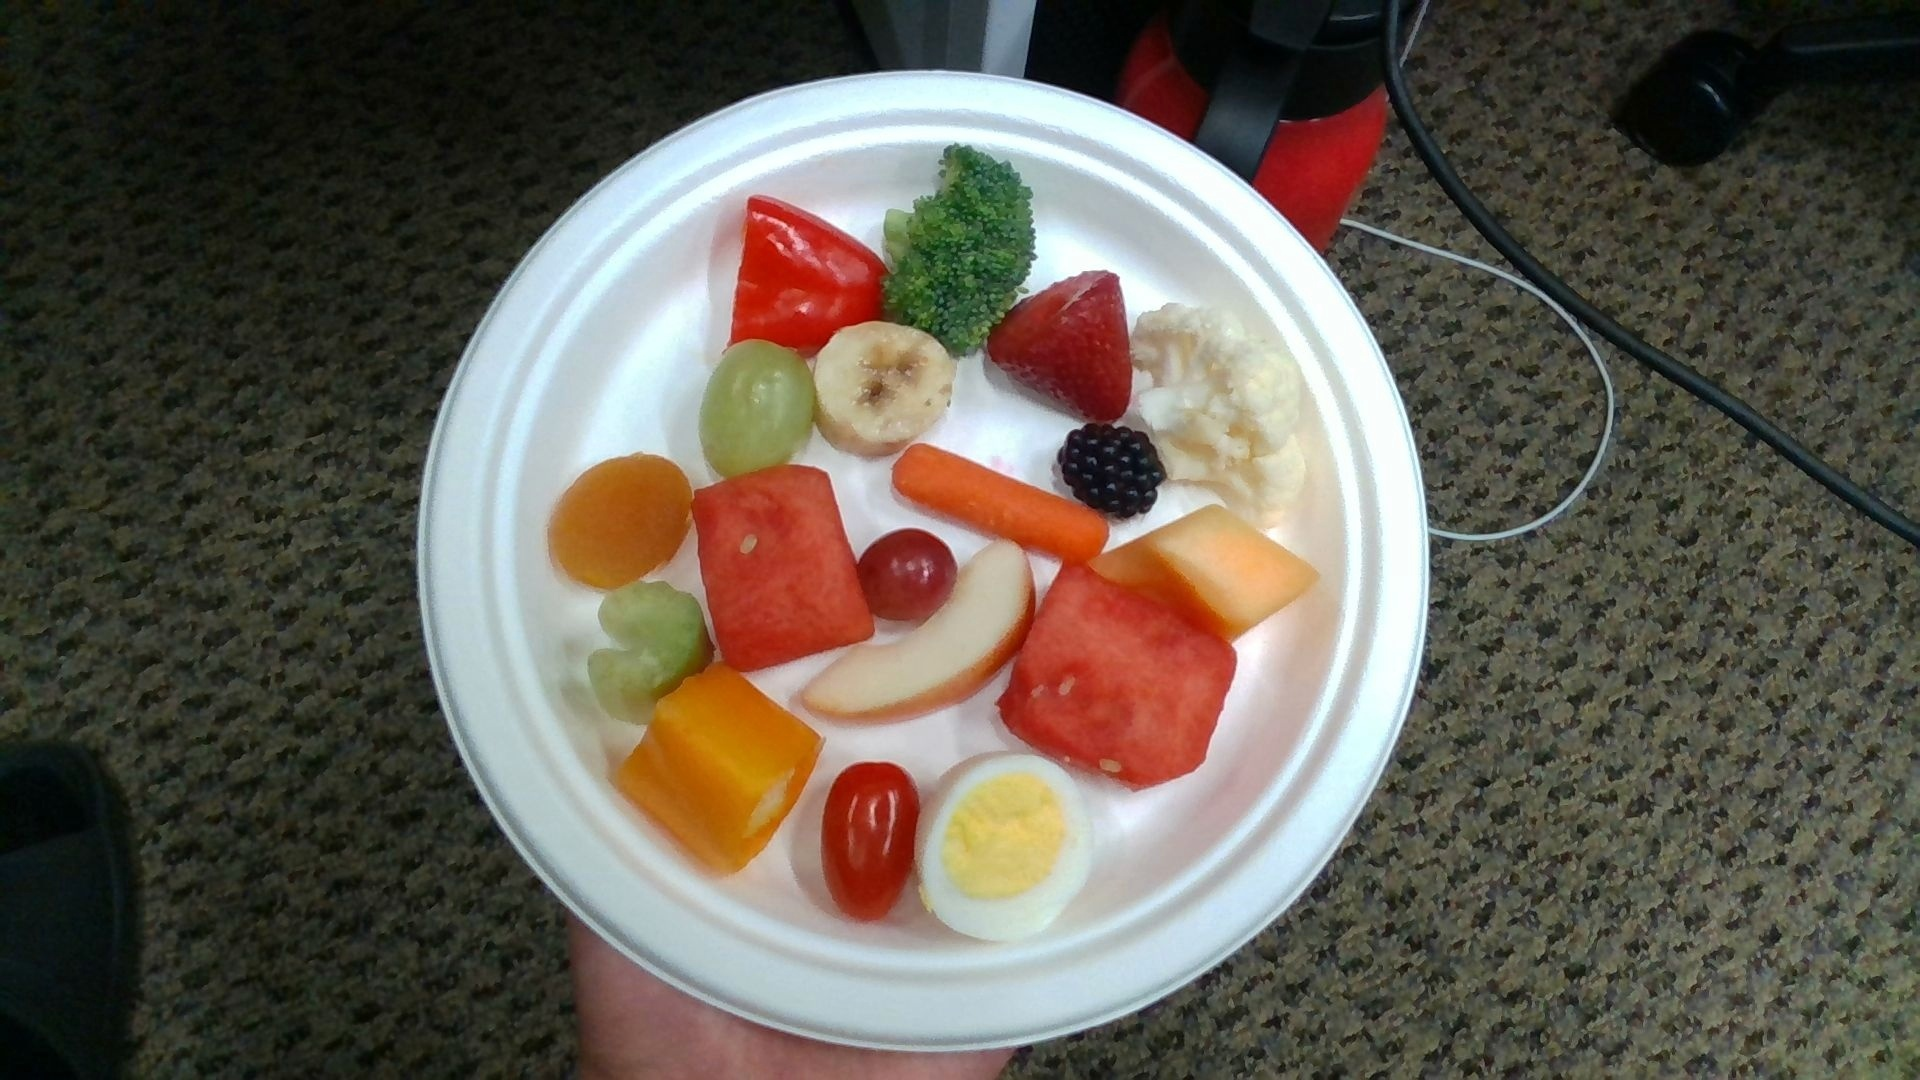apple: (800, 538, 1035, 717)
apricot: (553, 455, 690, 588)
banana: (814, 320, 949, 451)
bell_pepper: (620, 666, 822, 873), (731, 196, 884, 355)
blackberry: (1062, 426, 1164, 516)
broccoli: (882, 145, 1034, 351)
cantalope: (1091, 505, 1317, 636)
carrot: (890, 443, 1109, 560)
cauliflower: (1130, 303, 1309, 521)
celery: (592, 583, 709, 720)
cherry_tomato: (825, 765, 919, 920)
egg: (914, 758, 1091, 943)
grape_green: (699, 342, 814, 475)
grape_purple: (858, 527, 955, 625)
melon: (1004, 563, 1236, 785), (695, 469, 874, 670)
strawberry: (989, 273, 1131, 423)
